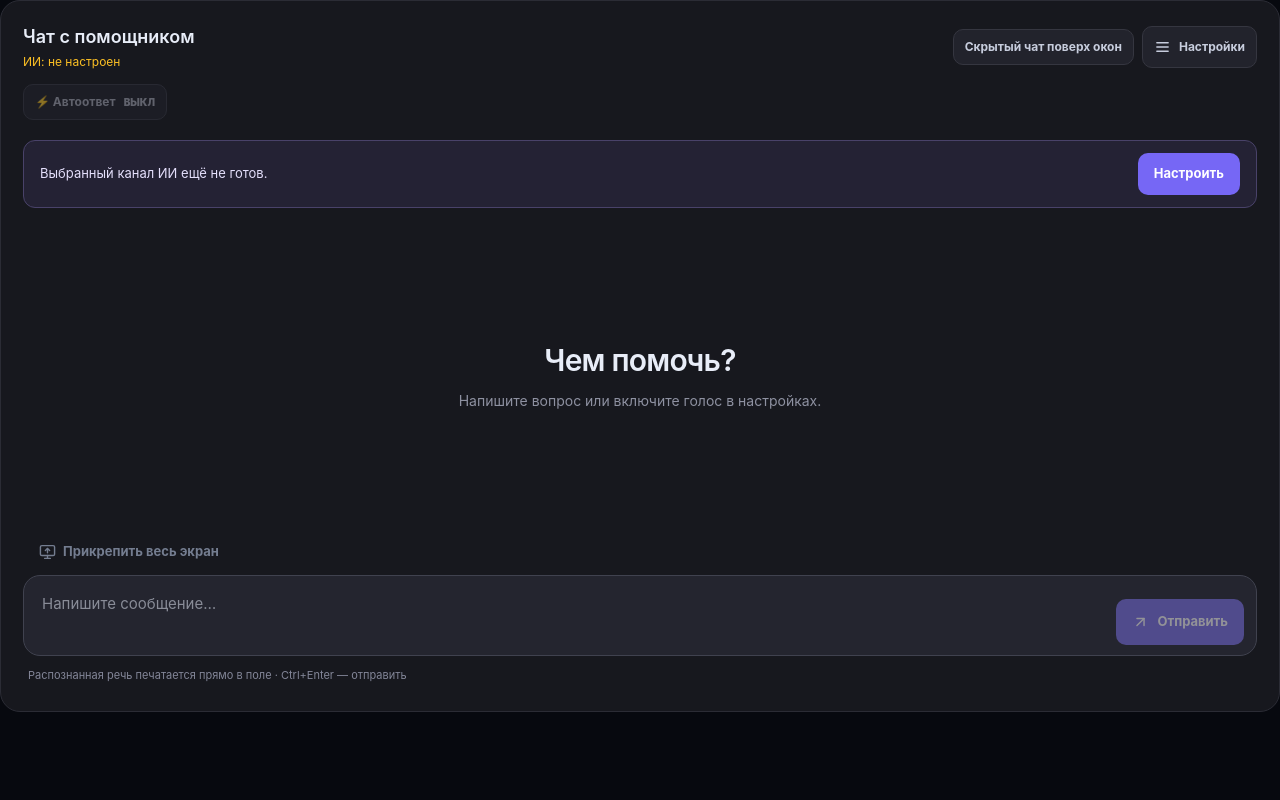
Scenario: missing requested screenshot does not attach anything or send by itself
Click the button "Прикрепить весь экран": {"x": 129, "y": 552} 23,529 -> 235,575
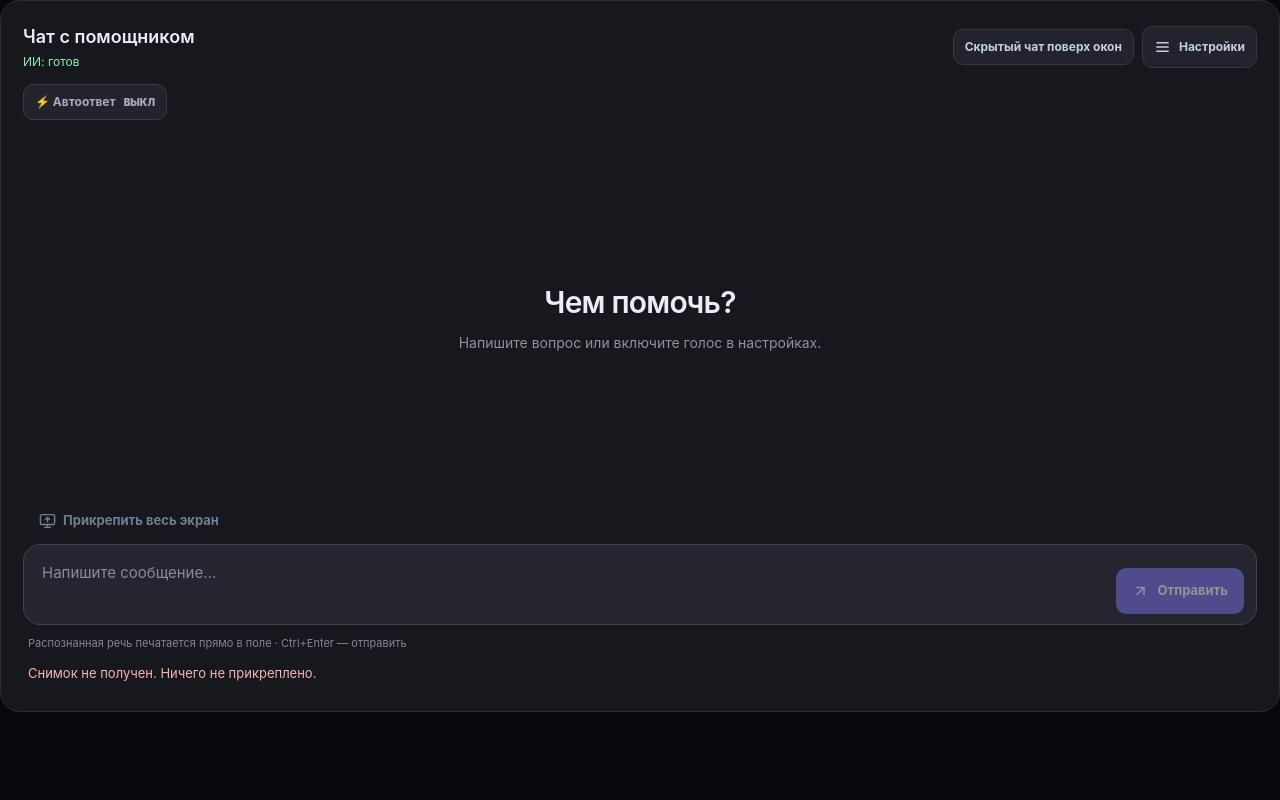
Check: the text "Снимок не получен. Ничего не прикреплено." is shown, box 28,665 -> 316,681
